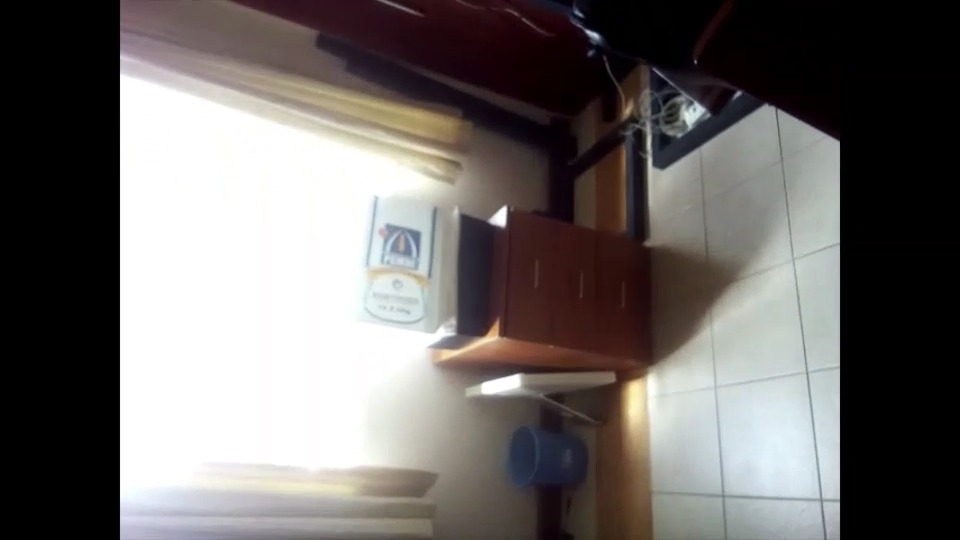wheat_flour_blue_label: (365, 195, 453, 329)
